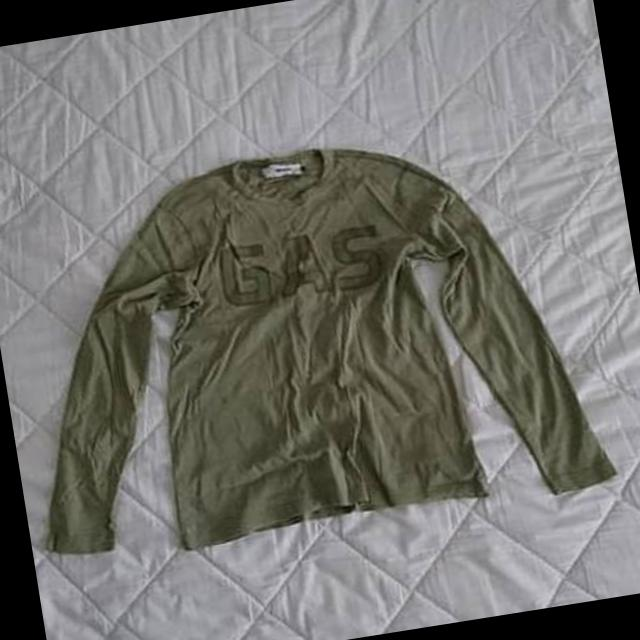SHIRT: (0, 96, 629, 591)
